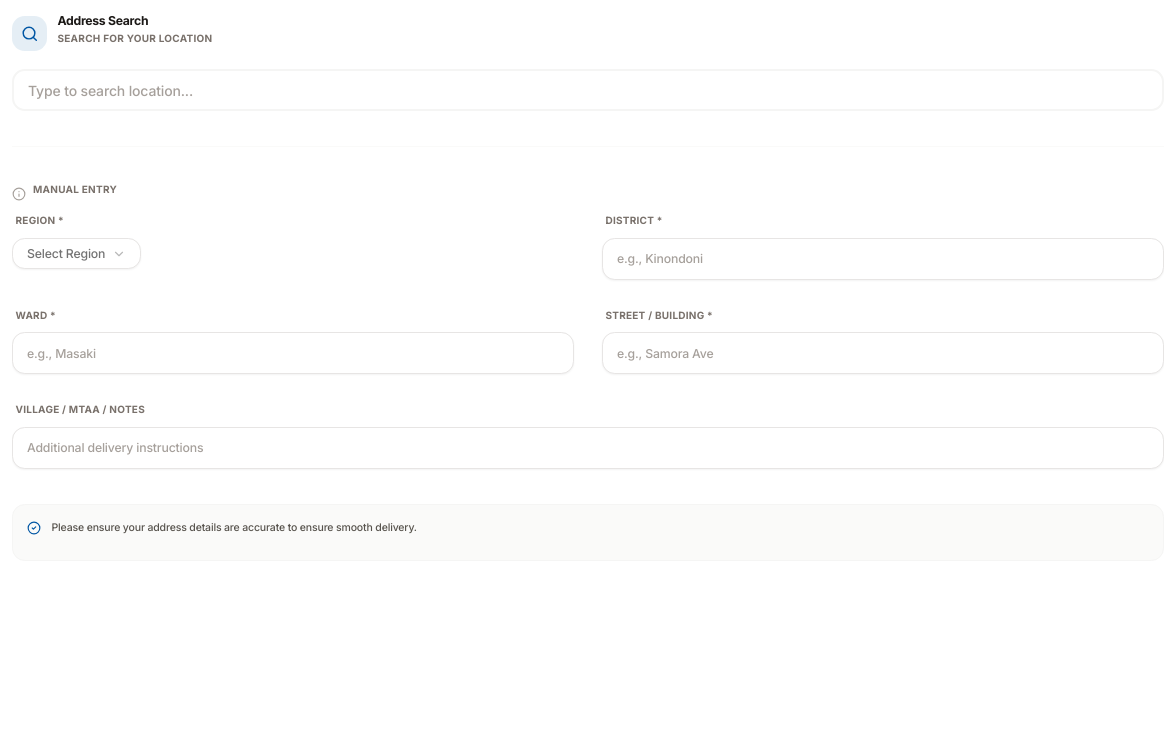
Test case: TanzaniaAddressForm › manual entry fields › lists every Tanzanian region as a select option
Click the dropdown at (77, 254), box [12,238,141,269]
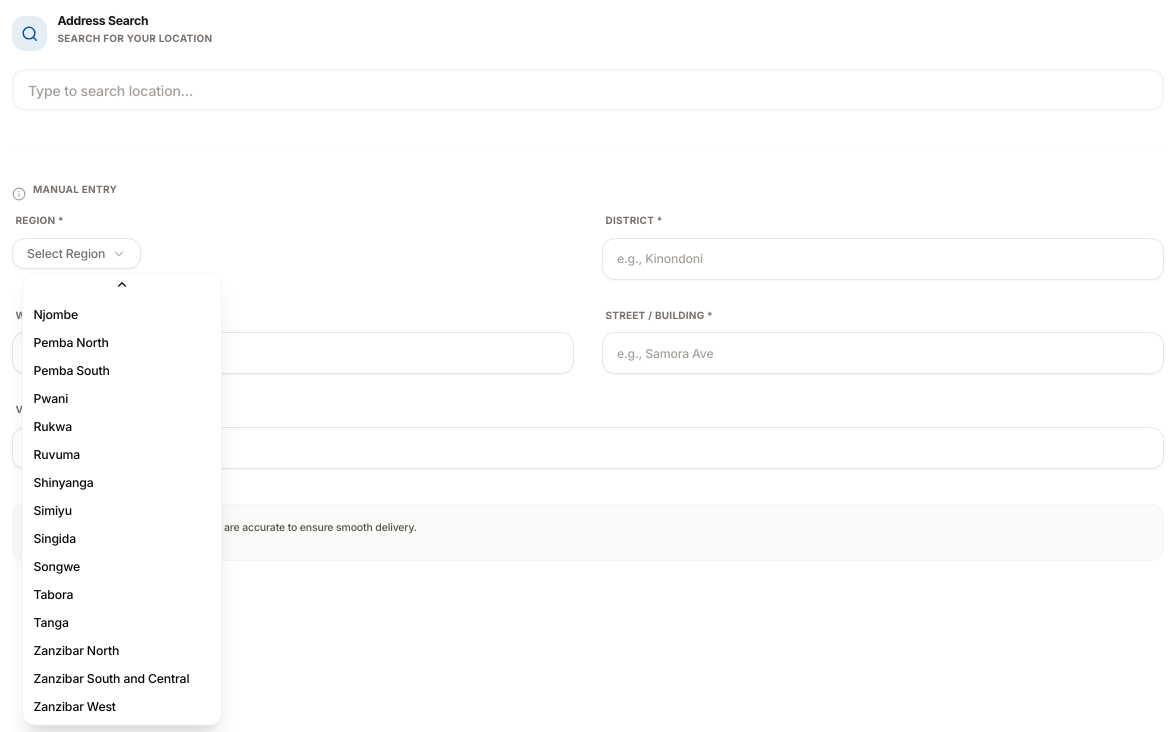
Now the option "Njombe" is shown, box [34,307,78,322]
Now the option "Pemba North" is shown, box [34,335,109,350]
Now the option "Pemba South" is shown, box [34,363,110,378]
